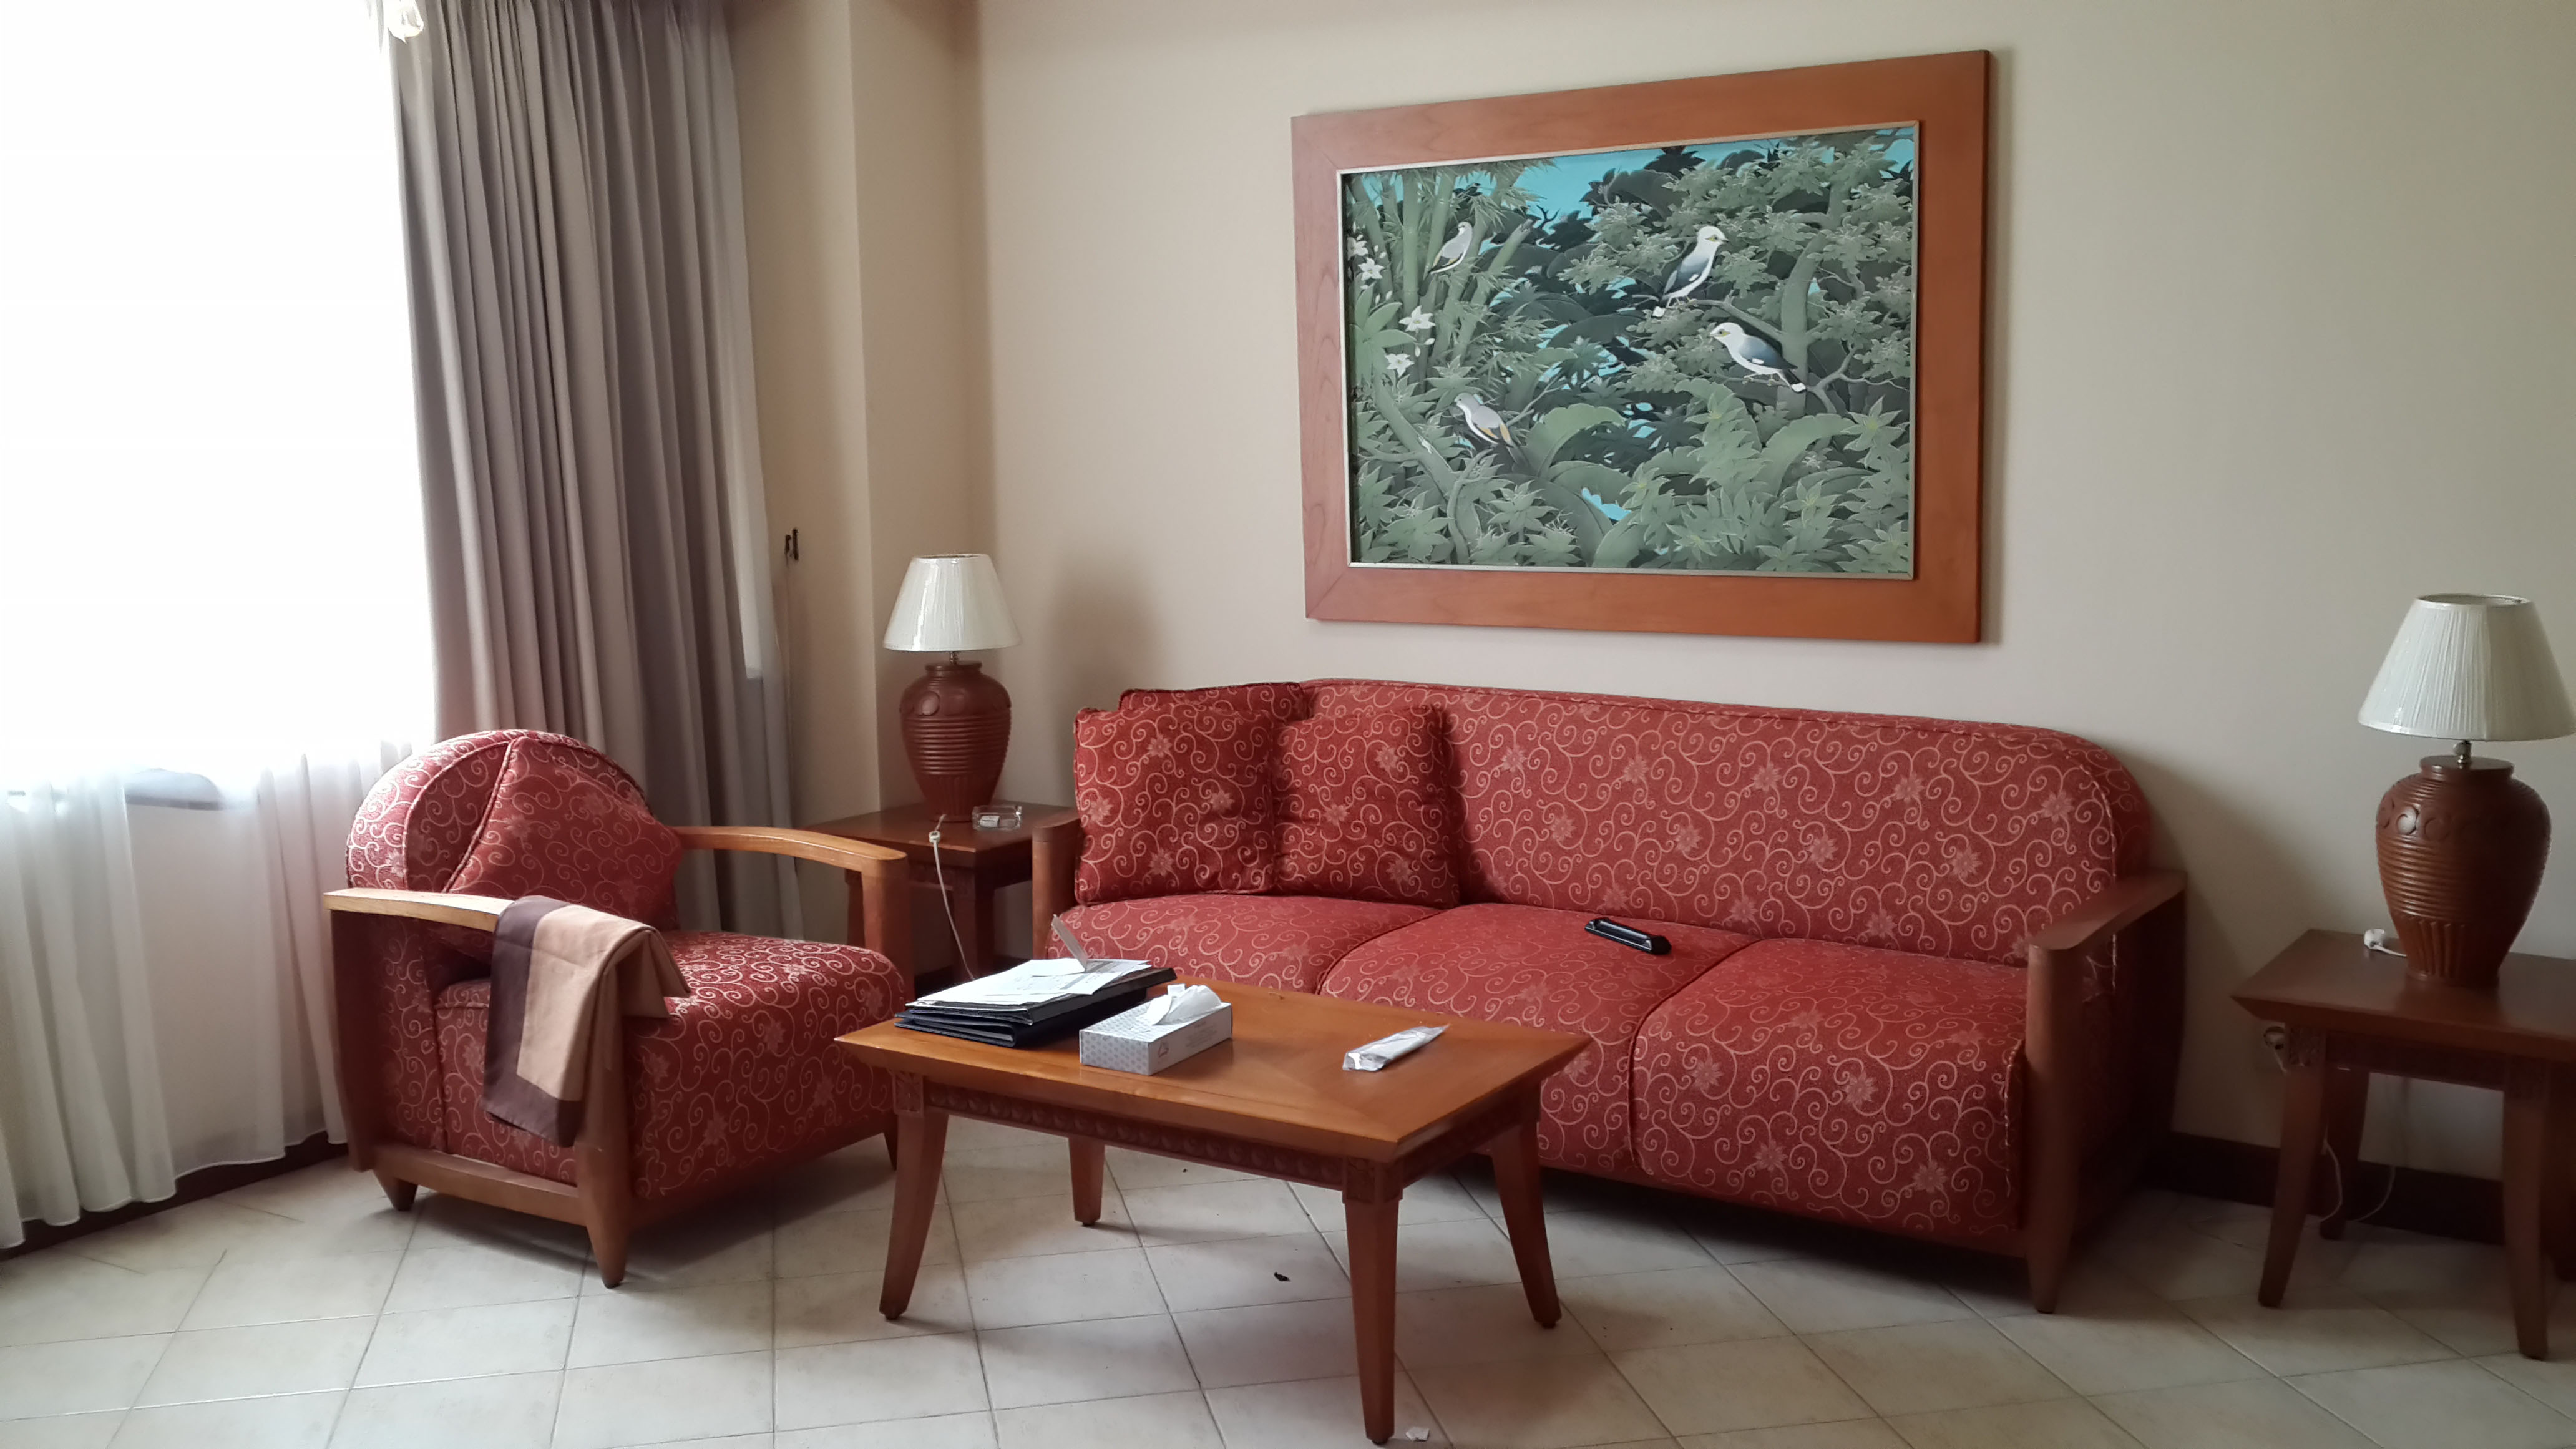bantal: (1062, 709, 1277, 902), (471, 754, 674, 952), (1288, 706, 1456, 908)
buku: (906, 936, 1154, 1049)
kursi: (324, 731, 931, 1290)
lampu: (2364, 561, 2551, 1003), (876, 548, 1028, 821)
lukisan: (1270, 34, 2005, 658)
meja: (856, 966, 1592, 1428)
sova: (1060, 690, 2180, 1297)
